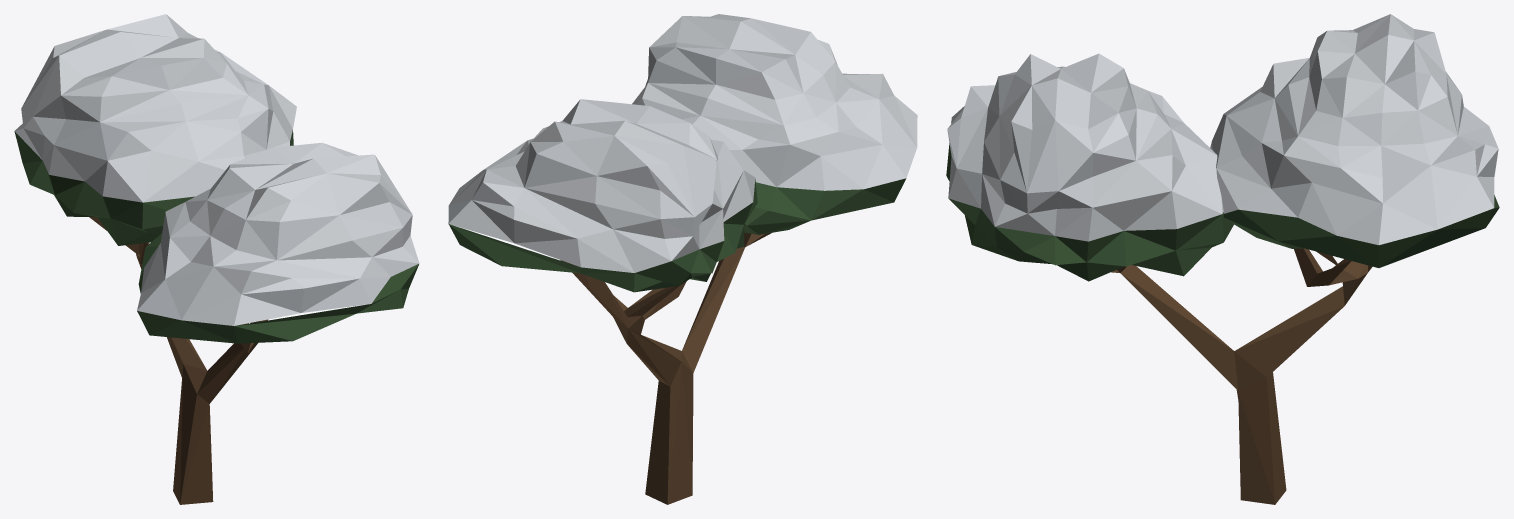
The model's file is tree_winter_1.glb.
3 views of the same model, side by side, from view 1: azimuth 30°, elevation 25°; view 2: azimuth 150°, elevation 25°; view 3: azimuth 270°, elevation 25° (orthographic). The views are drawn at different scales.
Visible parts, largest first — view 1: lod0; view 2: lod0; view 3: lod0.
Boxes of the visible parts, box(x1,y1,x2,y2) form: lod0: box(14, 14, 419, 504); lod0: box(448, 14, 917, 504); lod0: box(946, 14, 1499, 504).
Size of what is drawn, in the model's own units: 5.12 by 6.79 by 7.52.
